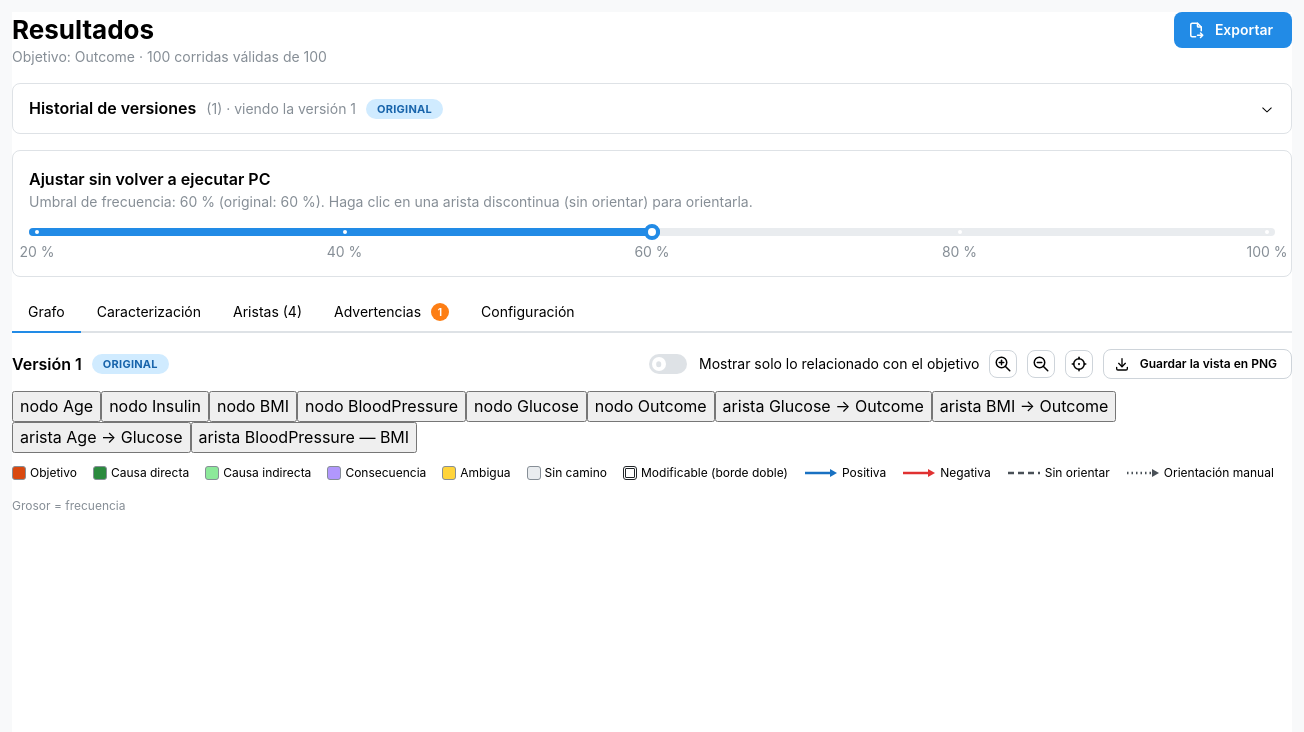
Scenario: Resultados: pestañas › sin candidatas muestra el mensaje explícito del núcleo
Click the tab "Caracterización". click: (149, 313)
box: [81,293,217,333]
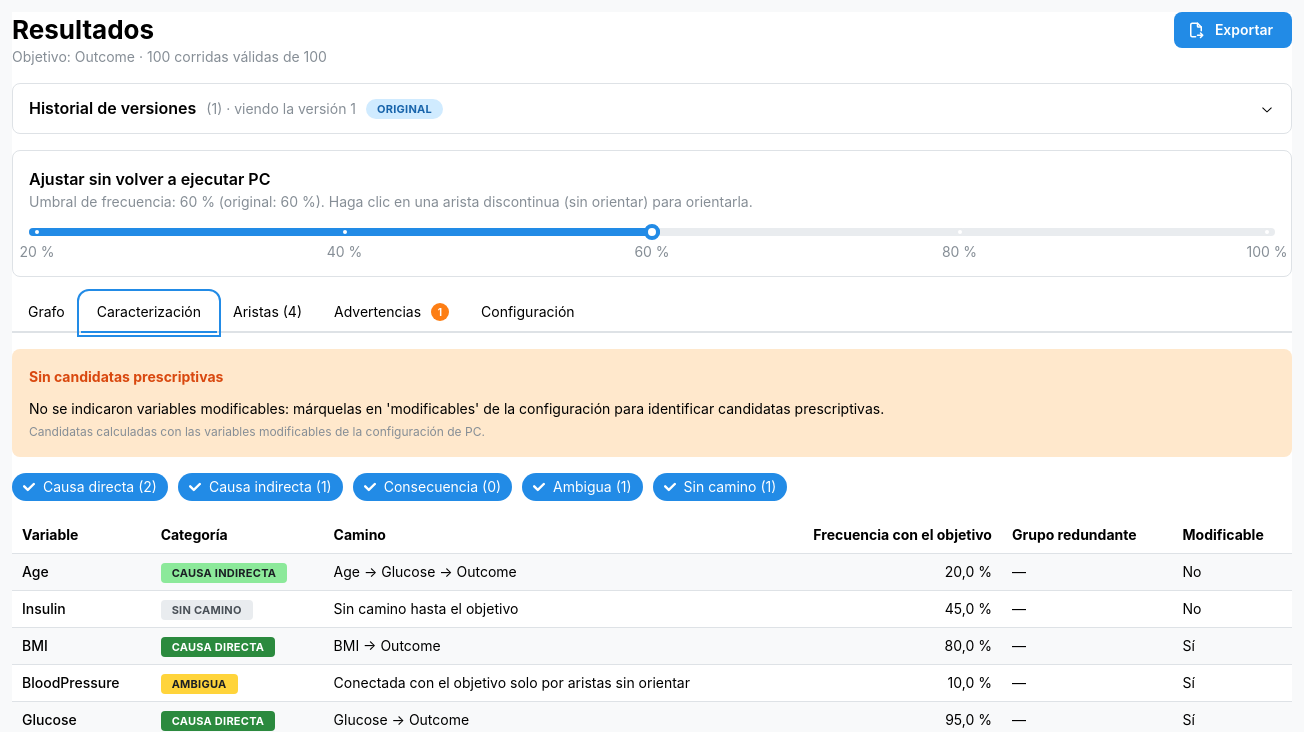
Result: the message with test id "candidatas-prescriptivas" shows "No se indicaron variables modificables" at [29,400,884,417]
